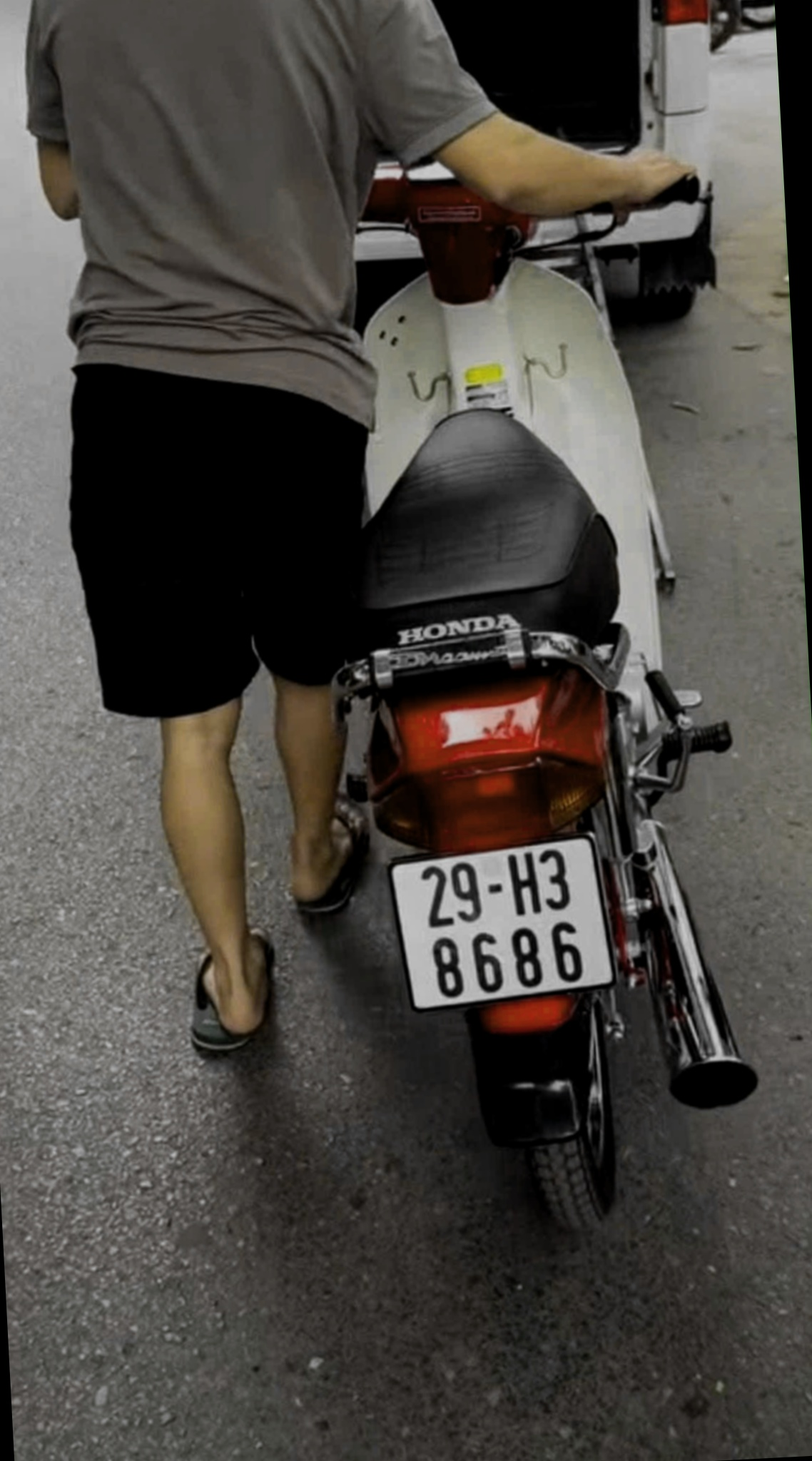Bien-so: (394, 830, 596, 994)
